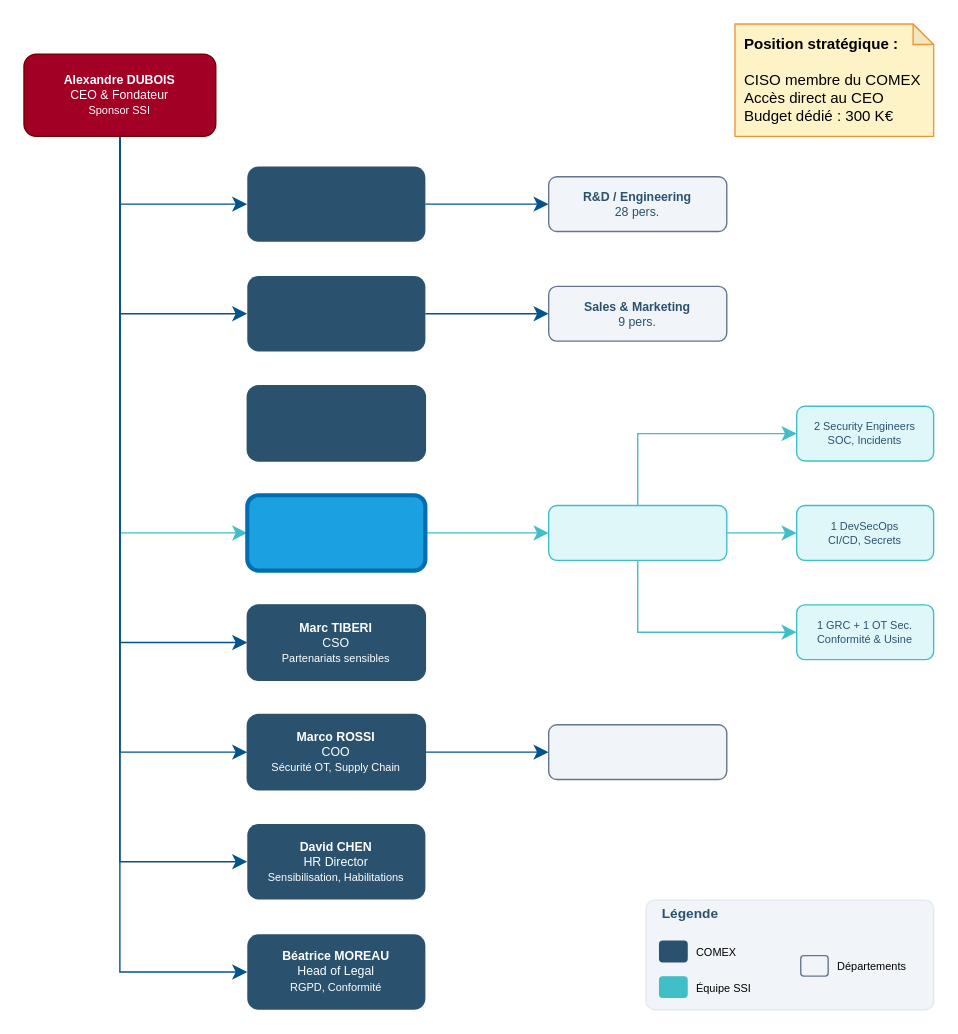
The diagram is 958 pixels wide and 1034 high, and some of its shapes have lost their labels. The box of each missing label's shape, as (x1, y1, x2, y2) in pixels:
Claire DELACROIX CFO Budget SSI, Assurance: (246, 384, 425, 461)
Dr. Lena ROSTOVA CTO Sécurité code, DevSecOps: (247, 166, 425, 241)
Mei Lin ZHAO CISO Pilotage SSI, Conformité: (245, 493, 427, 572)
Production 18 pers. (Chambéry): (547, 723, 727, 780)
Sarah AL-FAYED CCO Sécurité contrats: (247, 275, 425, 351)
Équipe IT & Cybersecurity 6 personnes: (547, 504, 727, 560)
